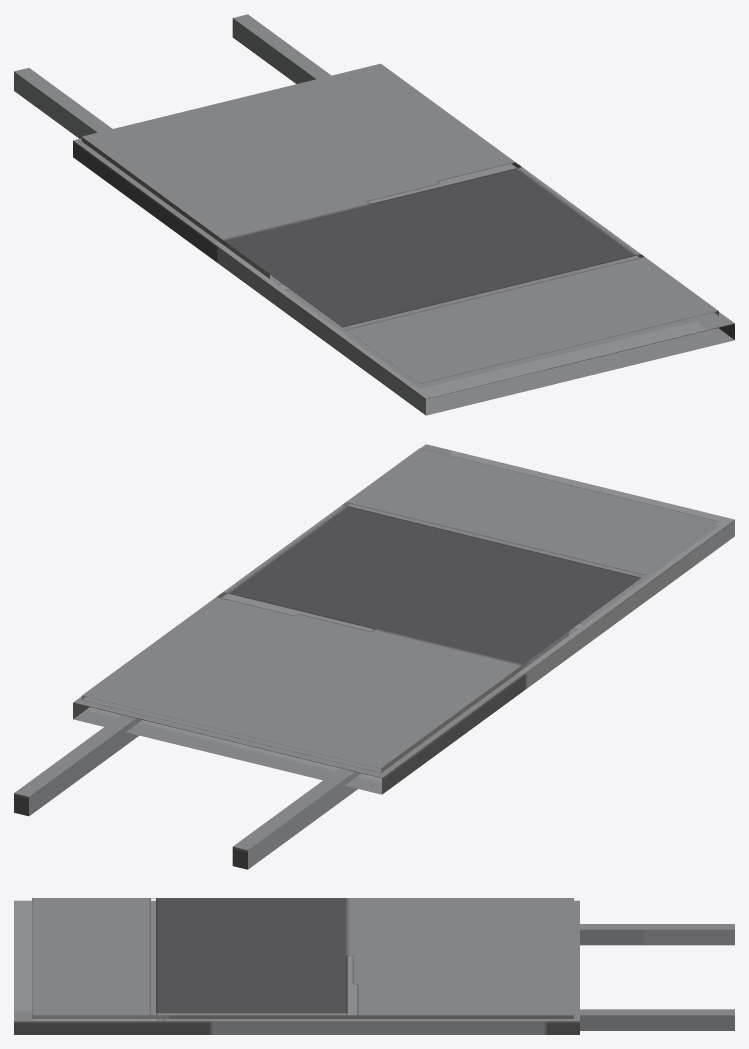
3 views of the same model, one above another, from view 1: azimuth 30°, elevation 25°; view 2: azimuth 150°, elevation 25°; view 3: azimuth 270°, elevation 25° (orthographic). The views are drawn at different scales.
Bounding box in the file's own units: 1.04 × 0.1145 × 2.61.
